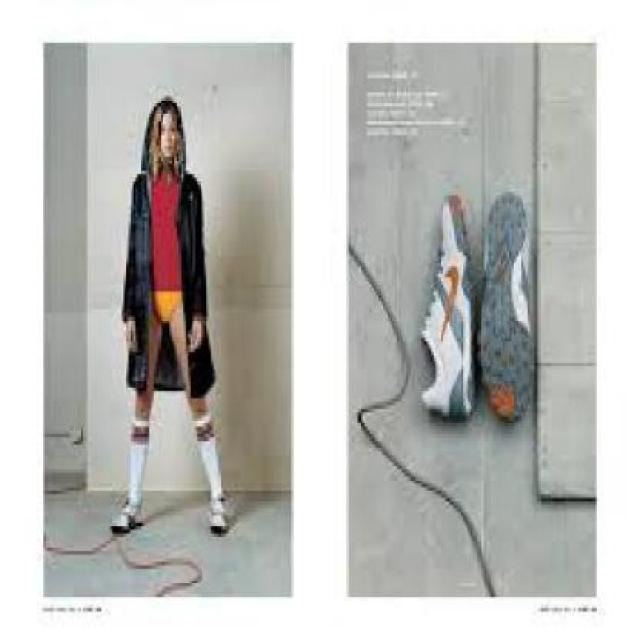Nike: (436, 259, 459, 338)
